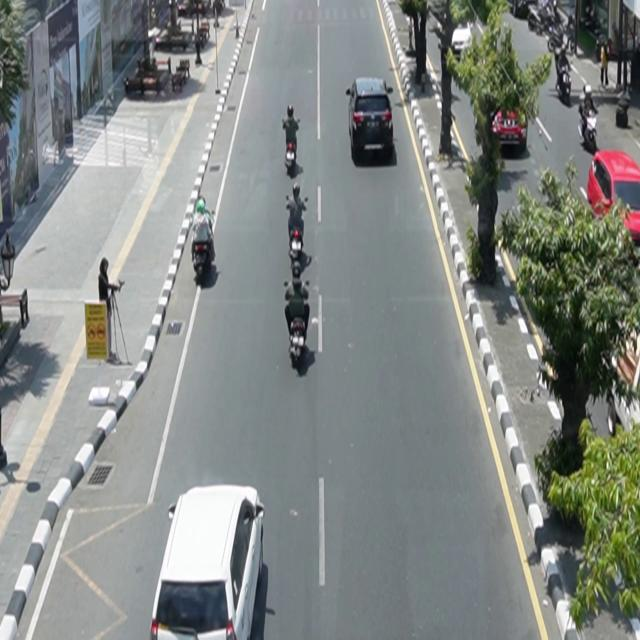car: (150, 484, 269, 640), (588, 150, 640, 245), (346, 78, 395, 161)
